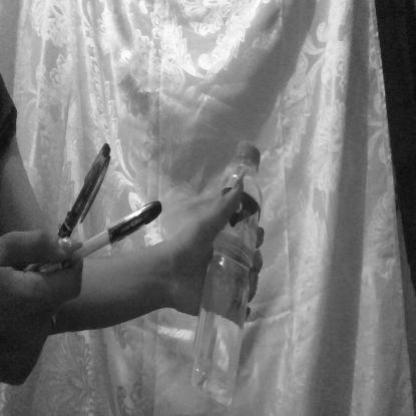Plastic Bottle: (175, 109, 284, 415)
